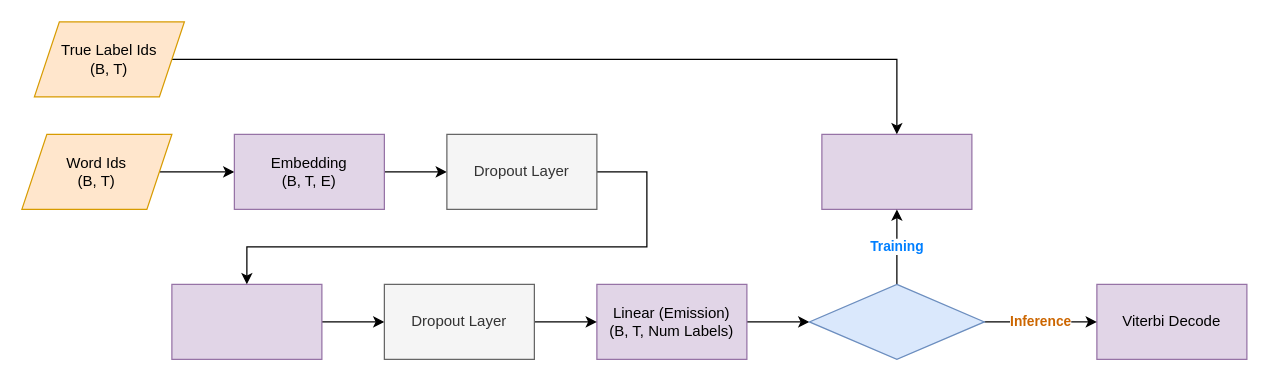
Some shapes in this 1269 by 381 pixel diagram are drawn without their labels. The centre of each missing label's shape, as x and y in pixels:
"BiLSTM (B, T, H)" belongs at point 246,321.
"Negative log-likelihood" belongs at point 896,171.
"Training / Inference" belongs at point 896,321.
